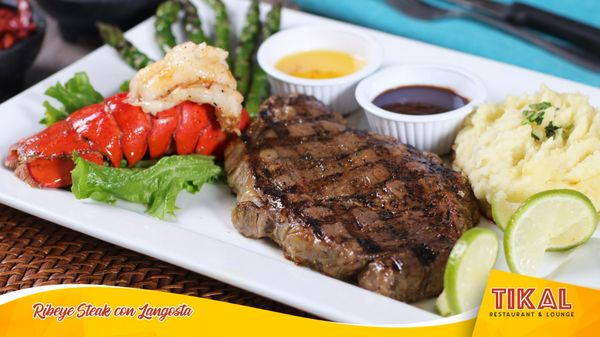soup: (6, 40, 249, 219)
sushi: (355, 62, 488, 155), (256, 25, 384, 114), (0, 1, 48, 103)
